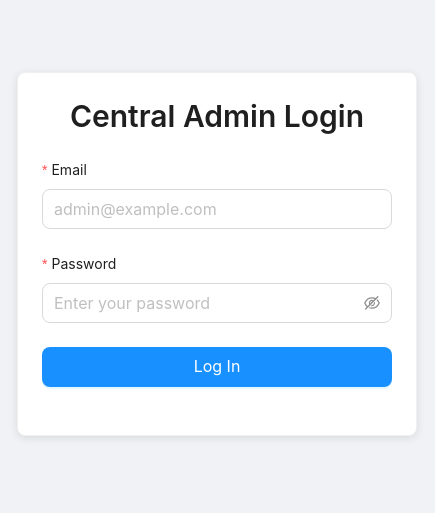
Scenario: Central Admin Authentication › should show error for invalid credentials
The image size is (435, 513).
// Enter invalid credentials
In the field named "email": (217, 209) [42,189,392,229], type "invalid@test.com"
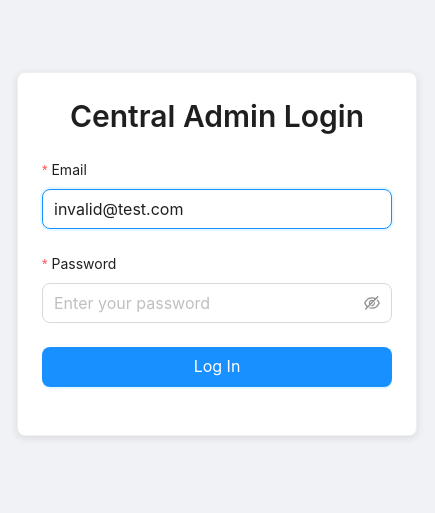
In the password field named "password": (207, 303) [54,291,360,315], type "wrongpassword"
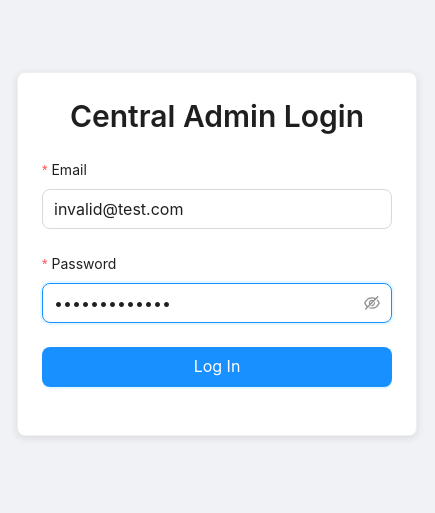
// Submit the form
Click the submit button: (217, 367) [42,347,392,387]
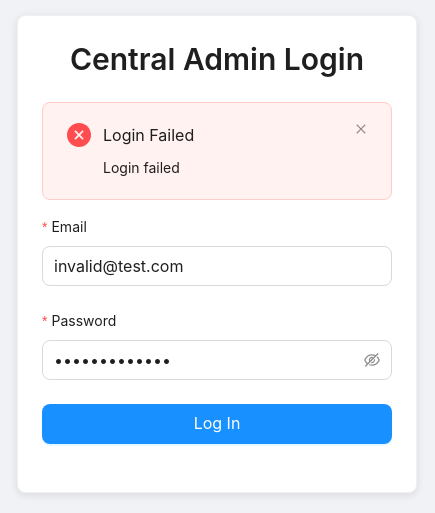
Now the text "Login Failed" is shown, box [103,125,194,145]
